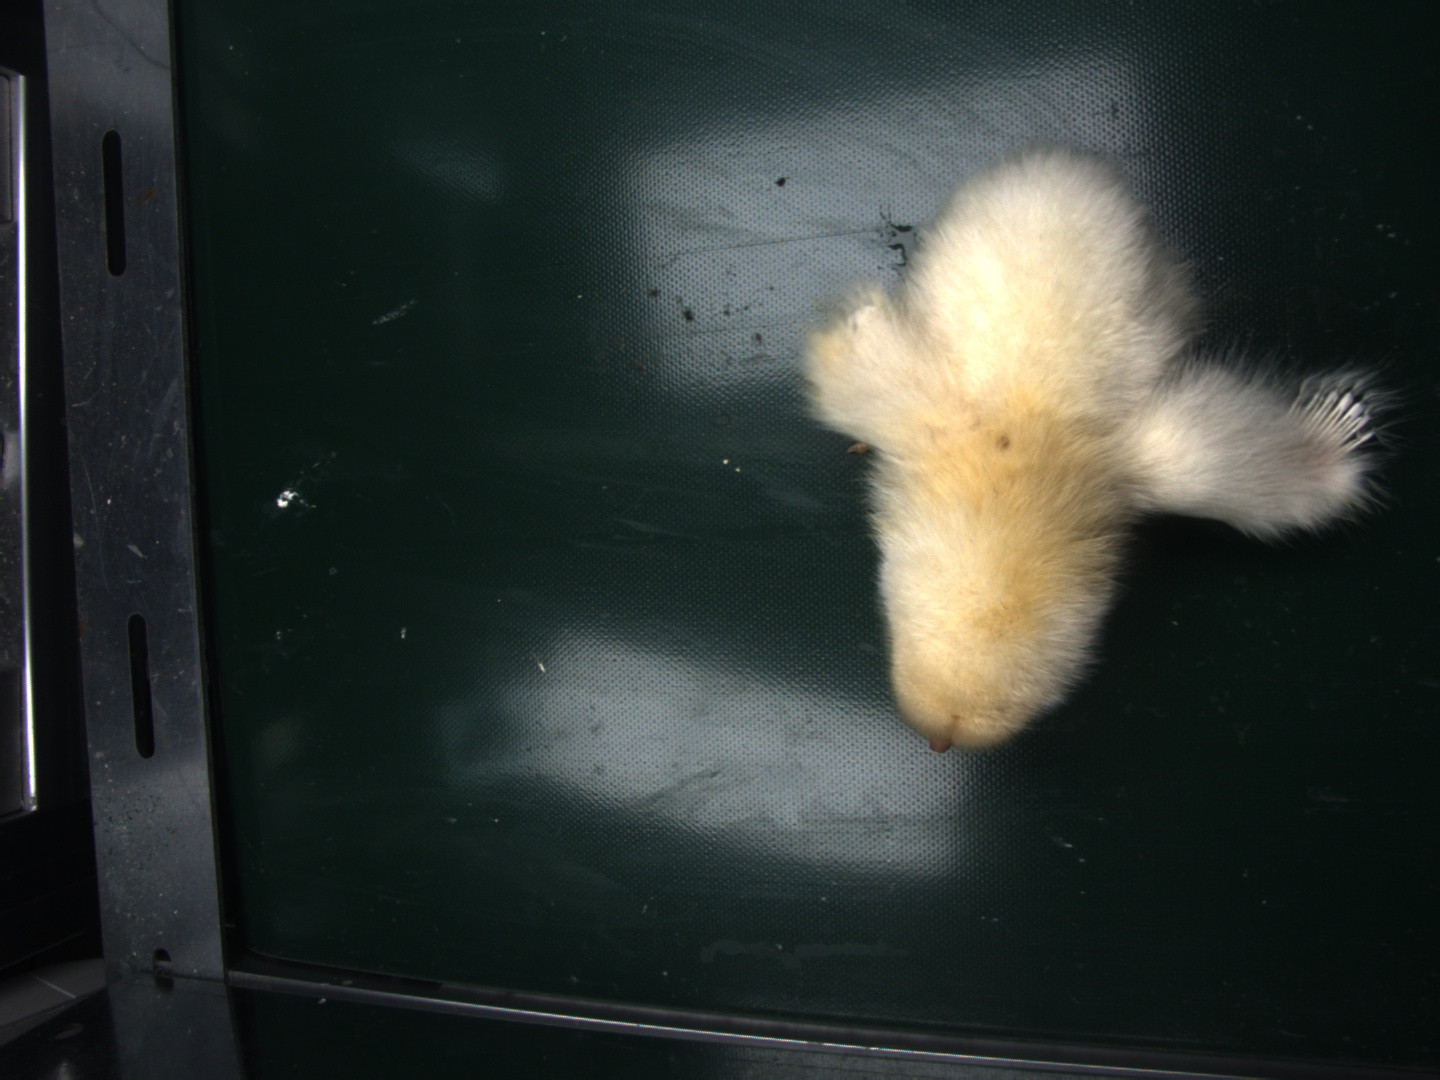male: (1296, 393, 1369, 449)
